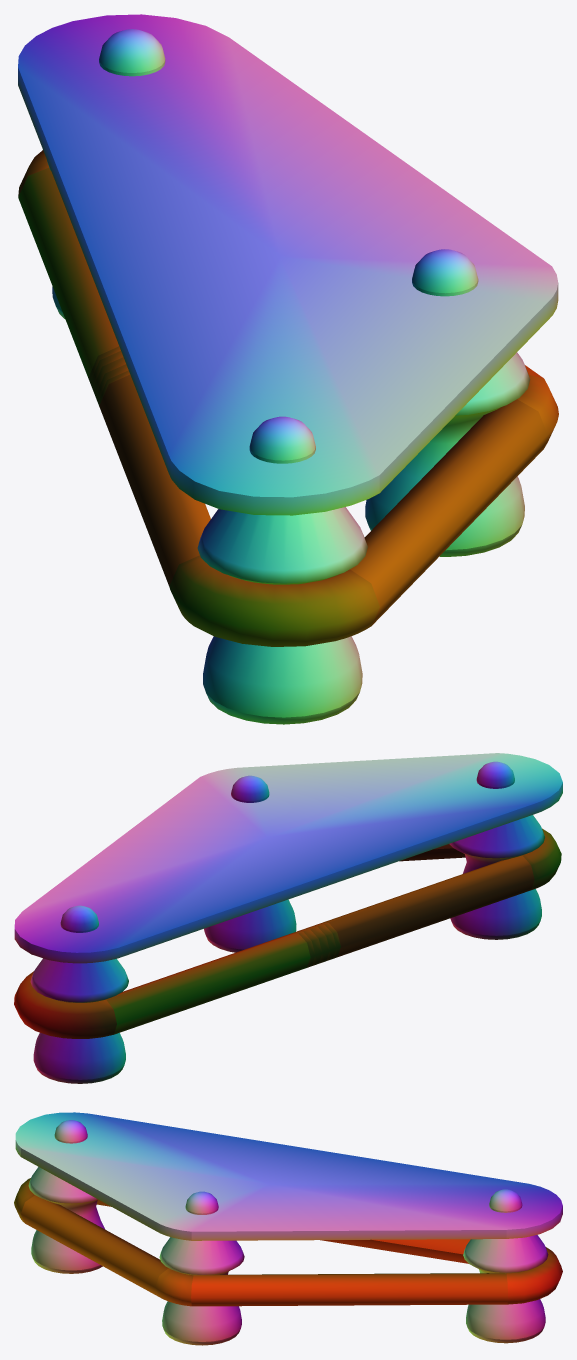
Rendered from SM_SlingBandMT1.FBX.
3 renders of one model, top to bottom at view 1: azimuth 30°, elevation 25°; view 2: azimuth 150°, elevation 25°; view 3: azimuth 270°, elevation 25°, orthographic. The views are drawn at different scales.
Visible parts, largest first — view 1: Base; view 2: Base; view 3: Base.
Part boxes in pixels (x1,y1,x2,y2): Base: (18,14,558,724); Base: (14,753,562,1083); Base: (14,1112,562,1345).
Size of what is drawn, in the model's own units: 263 by 141 by 510.
